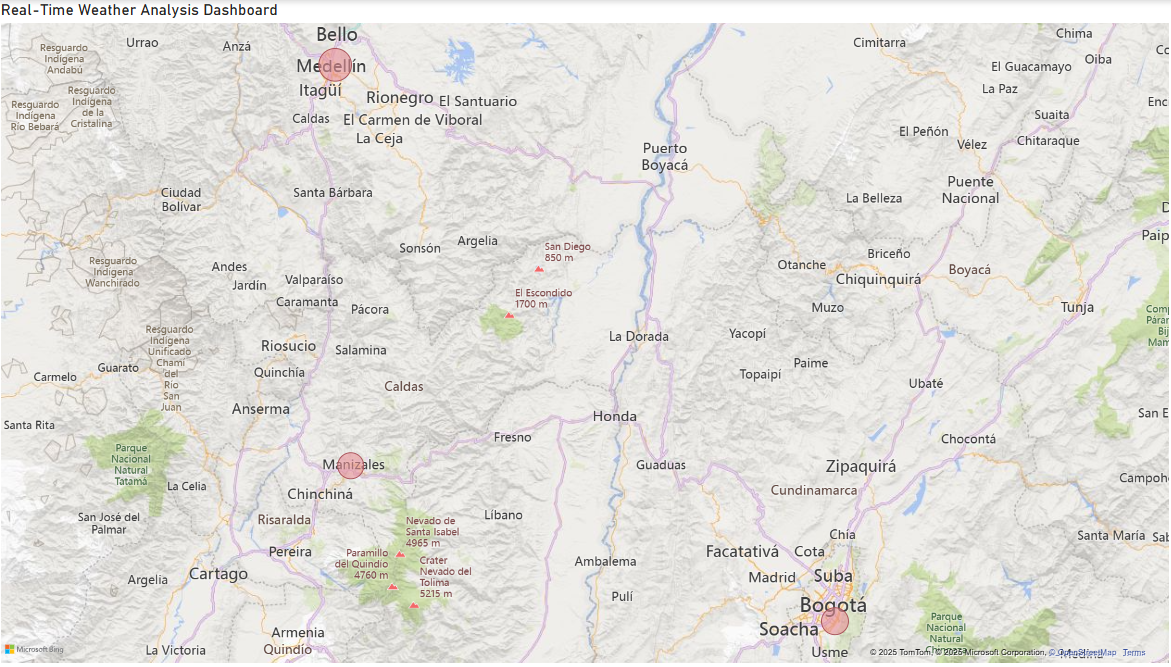

The page's visual inventory and layout, read from the dashboard file:
{"tool":"powerbi","page":{"name":"Página 1","canvas":[1280,720],"ordinal":0},"visuals":[{"type":"map","title":"Real-Time Weather Analysis Dashboard","fields":{"Y":["clima_actual.latitud"],"X":["clima_actual.longitud"],"Size":["Max(clima_actual.temperatura)"]},"box":[9.7,0,1271.1,720.6],"z":0}]}

Visuals, with their boxes in screenshot pixels (x1, y1, x2, y2), scaled from the page's 1280x720 canvas onto the 1171x667 screenshot:
"Real-Time Weather Analysis Dashboard" map: bbox=(9, 0, 1170, 666)
